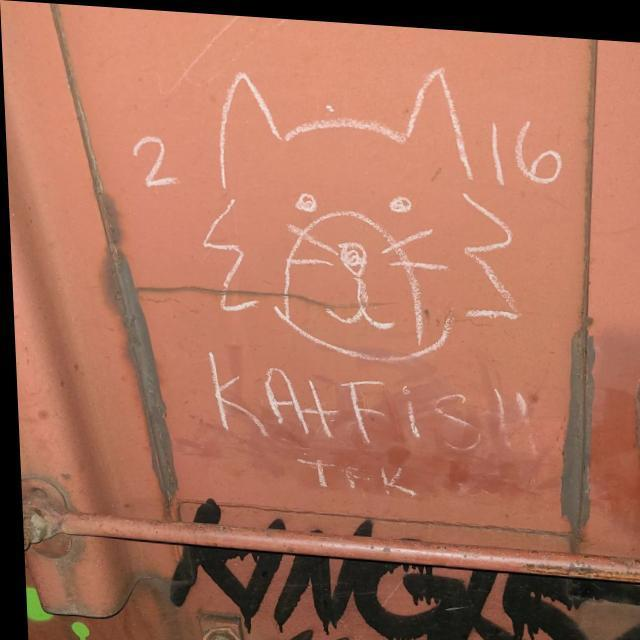-: (73, 9, 640, 548), (120, 475, 640, 640)
